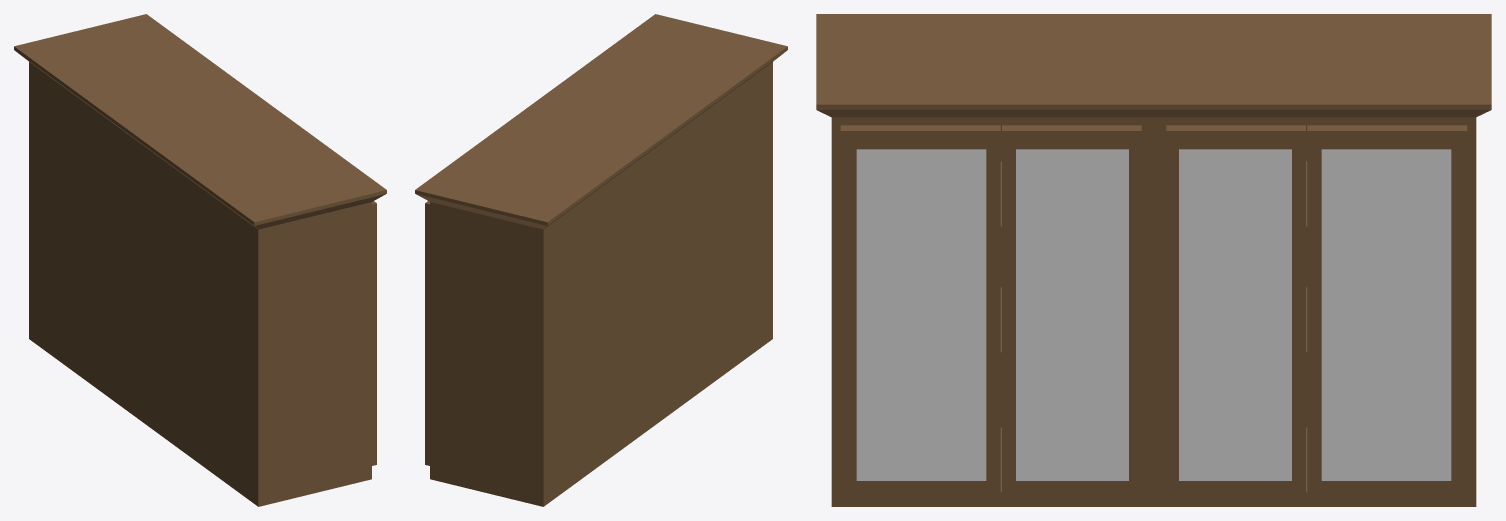
Rendered from woodshelf.fbx.
The picture shows the model from 3 angles, left to right: view 1: azimuth 30°, elevation 25°; view 2: azimuth 150°, elevation 25°; view 3: azimuth 270°, elevation 25°; orthographic projection. The views are drawn at different scales.
Visible parts, largest first — view 1: WoodShelf, Cube; view 2: WoodShelf, Cube; view 3: WoodShelf, Plane, Plane.001, Cube, Cube.001.
Part boxes in pixels (x1,y1,x2,y2): WoodShelf: (14, 14, 386, 506); Cube: (372, 201, 376, 465); WoodShelf: (415, 14, 787, 506); Cube: (425, 201, 429, 465); WoodShelf: (816, 14, 1491, 506); Plane: (856, 149, 1128, 480); Plane.001: (1179, 149, 1451, 480); Cube: (840, 125, 1467, 498); Cube.001: (1002, 125, 1305, 498).
Size of the model in its own units: 140 by 294 by 440.
